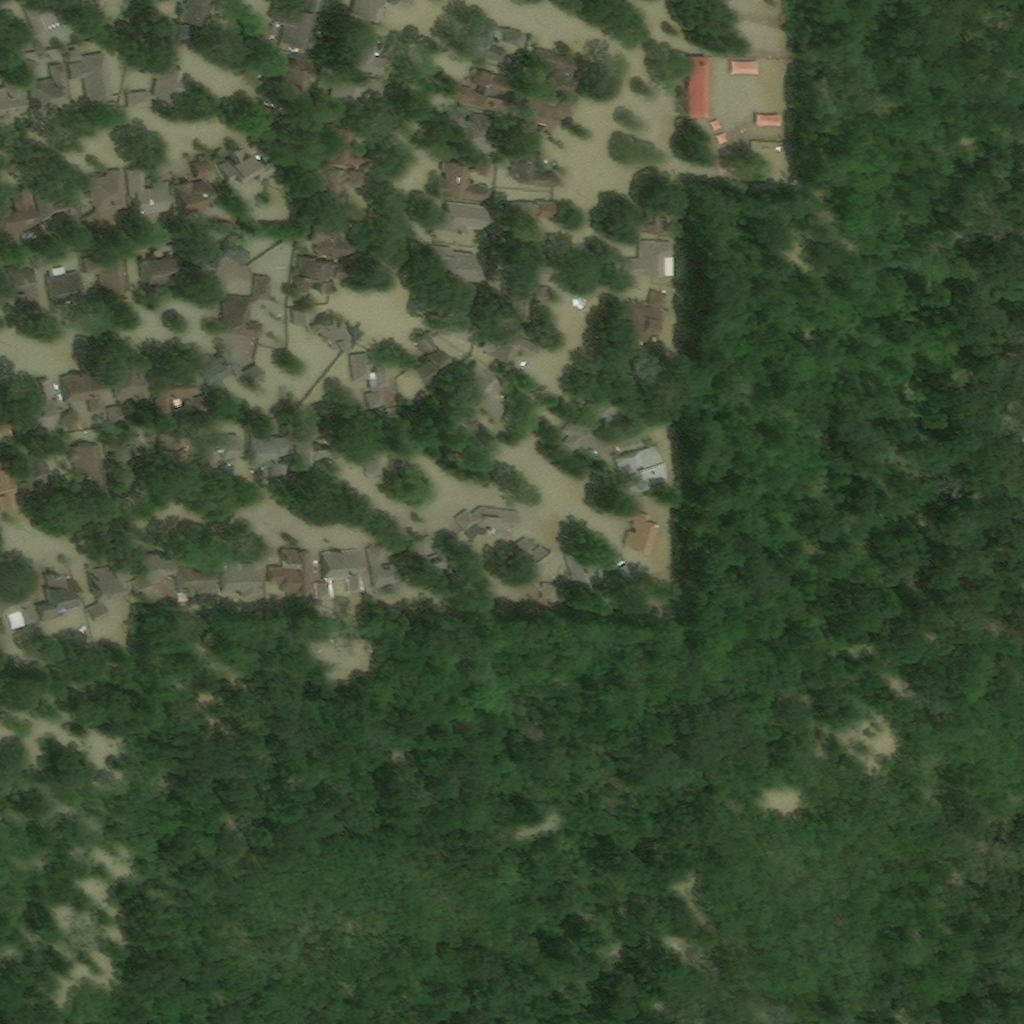destroyed: (16, 0, 71, 55), (467, 19, 525, 65), (455, 511, 520, 549), (503, 542, 556, 586), (418, 542, 465, 591), (481, 329, 540, 365), (386, 408, 422, 464), (344, 430, 383, 480), (508, 243, 552, 285), (85, 0, 131, 38), (567, 553, 610, 593), (431, 301, 471, 344), (144, 64, 184, 106), (350, 0, 386, 25), (410, 357, 440, 387), (616, 566, 641, 595), (411, 541, 436, 563), (127, 94, 150, 114), (414, 332, 435, 353), (711, 0, 738, 14), (387, 0, 408, 11), (427, 347, 441, 360)
major_damage: (194, 346, 265, 403), (560, 395, 621, 458), (218, 277, 270, 342), (10, 378, 61, 443), (179, 237, 251, 280), (67, 51, 122, 105), (175, 167, 230, 220), (61, 370, 106, 434), (613, 292, 669, 343), (20, 62, 73, 115), (434, 161, 498, 204), (84, 172, 129, 233), (291, 308, 349, 353), (36, 258, 85, 311), (262, 52, 316, 100), (452, 70, 513, 112), (615, 448, 666, 498), (0, 583, 41, 645), (616, 504, 660, 561), (352, 351, 392, 413), (464, 363, 505, 423), (338, 30, 388, 79), (128, 169, 175, 220), (221, 144, 274, 189), (38, 571, 81, 626), (315, 552, 364, 600), (431, 202, 487, 243), (83, 250, 129, 299), (270, 7, 317, 54), (532, 49, 579, 95), (174, 551, 219, 599), (124, 242, 176, 283), (369, 550, 411, 600), (0, 188, 38, 243), (511, 147, 556, 192), (33, 191, 78, 235), (521, 96, 569, 136), (160, 430, 194, 486), (269, 551, 312, 595), (297, 257, 344, 297), (426, 247, 482, 280), (321, 125, 362, 169), (499, 286, 549, 321), (308, 212, 346, 258), (504, 203, 551, 239), (153, 373, 194, 413), (625, 203, 673, 237), (314, 170, 358, 207), (625, 243, 667, 281), (296, 422, 333, 465), (112, 364, 151, 404), (153, 17, 185, 65), (687, 56, 709, 121), (111, 438, 153, 472), (203, 436, 241, 473), (220, 562, 256, 601), (0, 77, 29, 123), (66, 441, 102, 478), (0, 267, 34, 306), (0, 453, 20, 516), (88, 568, 127, 598), (331, 72, 381, 95), (251, 434, 287, 464), (256, 105, 284, 138), (135, 553, 167, 578), (17, 452, 46, 476), (176, 0, 205, 21), (288, 108, 308, 135), (285, 0, 320, 13), (218, 546, 237, 569), (0, 409, 14, 440), (454, 410, 475, 430), (132, 577, 151, 599), (91, 606, 109, 627), (731, 64, 758, 76), (755, 115, 779, 127), (109, 408, 123, 427), (0, 0, 12, 17), (717, 136, 727, 148), (712, 123, 722, 134)
